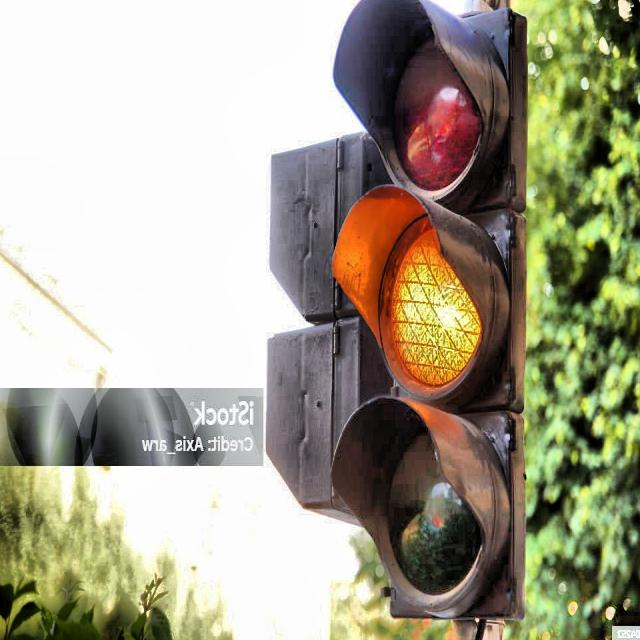yellow: (384, 9, 510, 614)
